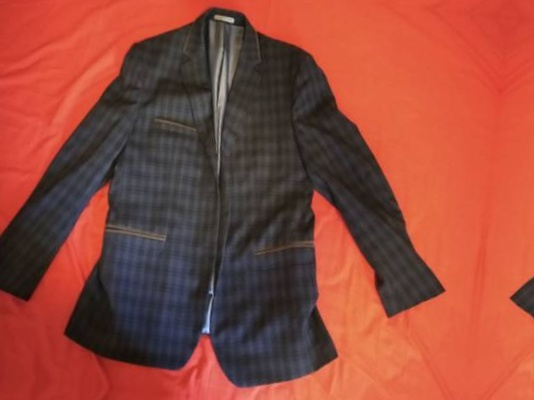Blazer: (0, 0, 458, 398), (515, 38, 534, 400), (0, 396, 411, 400)
